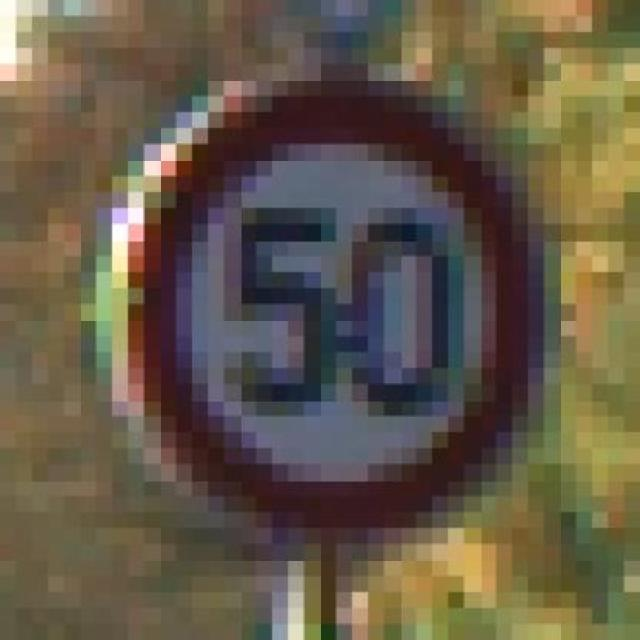forb_speed_over_50: (125, 76, 525, 527)
